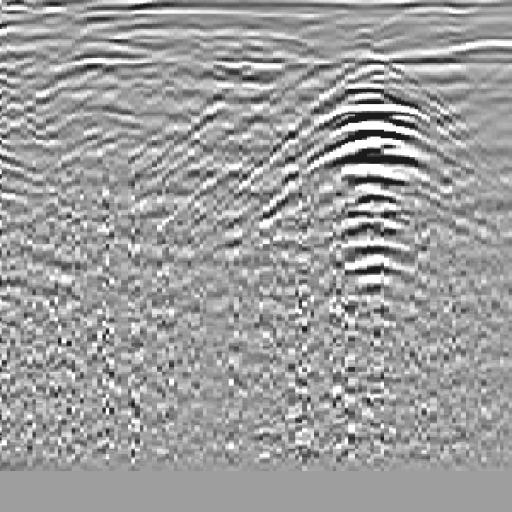metalic: (261, 57, 479, 299)
